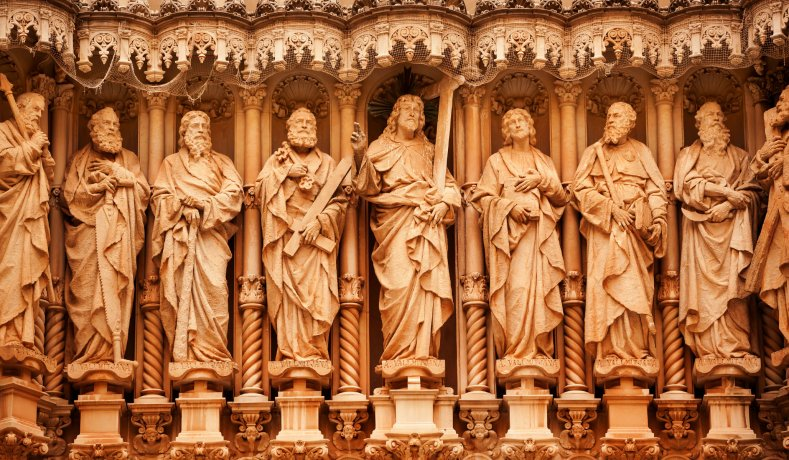person-like: (351, 91, 466, 366), (570, 97, 669, 385), (148, 106, 249, 379), (59, 104, 151, 388), (469, 100, 565, 365), (251, 103, 349, 361), (671, 98, 760, 367), (1, 90, 53, 355), (753, 79, 789, 371)
